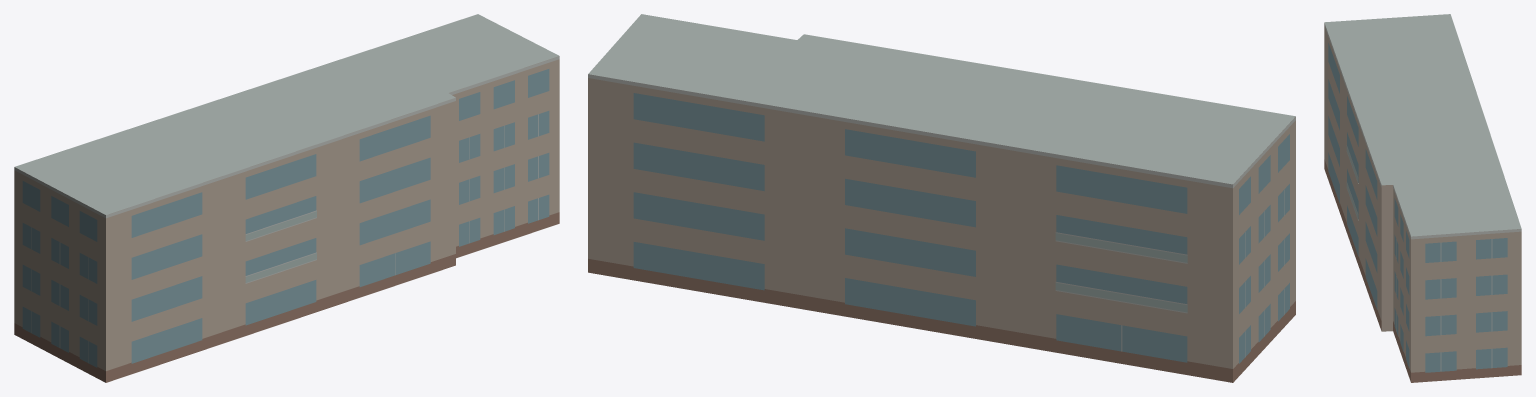
Rendered from survey-upis-32663472.glb.
3 renders of one model, left to right at view 1: azimuth 30°, elevation 25°; view 2: azimuth 150°, elevation 25°; view 3: azimuth 270°, elevation 25°, orthographic. The views are drawn at different scales.
Visible parts, largest first — view 1: survey-upis-32663472.tmp; view 2: survey-upis-32663472.tmp; view 3: survey-upis-32663472.tmp.
Part boxes in pixels (left/top/right/bottom): survey-upis-32663472.tmp: left=14, top=14, right=559, bottom=382; survey-upis-32663472.tmp: left=588, top=14, right=1295, bottom=382; survey-upis-32663472.tmp: left=1324, top=14, right=1521, bottom=382.
Size of the model in its own units: 41.43 by 12.7 by 15.54.
